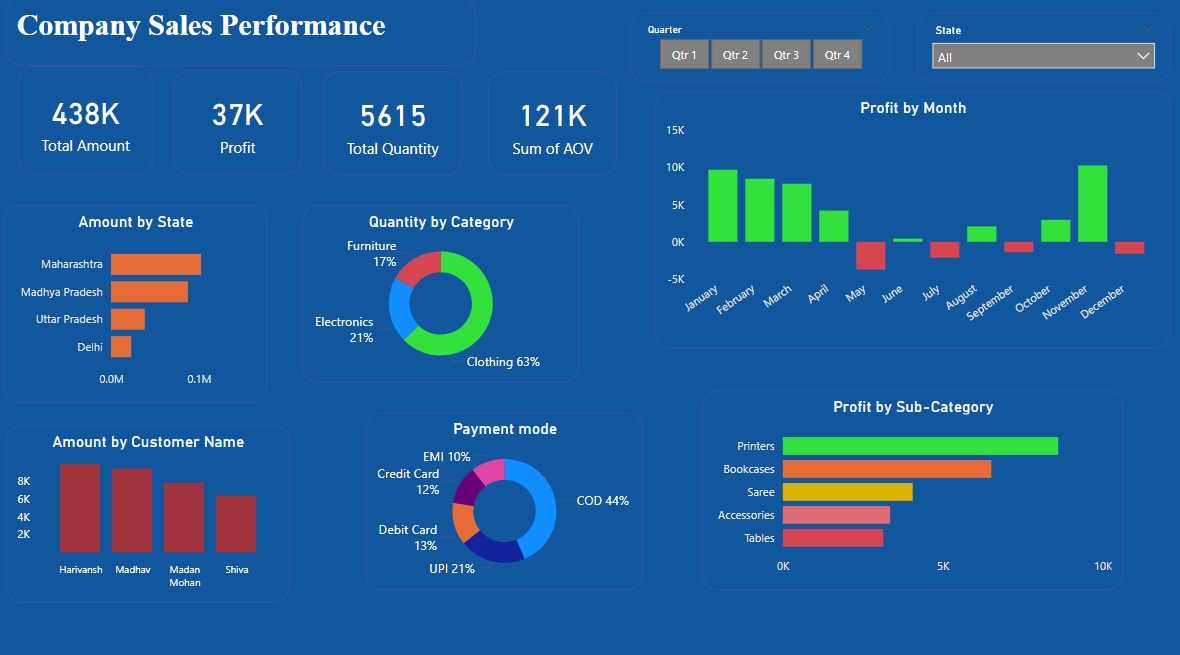

The page's visual inventory and layout, read from the dashboard file:
{"tool":"powerbi","page":{"name":"Page 1","canvas":[1280,720],"ordinal":0},"visuals":[{"type":"textbox","box":[9.4,0,606.5,56.5],"z":0},{"type":"columnChart","title":"Profit by Month","fields":{"Category":["Orders.Order Date.Variation.Date Hierarchy.Month"],"Y":["Details.Profit"]},"box":[707.4,103.6,555.4,277],"z":1000},{"type":"barChart","fields":{"Category":["Details.Sub-Category"],"Y":["Details.Profit"]},"box":[758.5,425,453.2,215.2],"z":2000},{"type":"donutChart","fields":{"Y":["Details.Quantity"],"Category":["Details.Category"]},"box":[328.1,225.9,298.6,191],"z":3000},{"type":"donutChart","fields":{"Y":["Details.Quantity"],"Category":["Details.PaymentMode"]},"box":[396.7,449.2,298.6,191],"z":4000},{"type":"card","fields":{"Values":["Details.Amount"]},"box":[22.9,76.7,145.2,117],"z":5000},{"type":"card","fields":{"Values":["Details.Profit"]},"box":[189.6,80.7,138.5,113],"z":6000},{"type":"card","fields":{"Values":["Details.Quantity"]},"box":[351,82,149.3,111.6],"z":7000},{"type":"card","fields":{"Values":["Details.AOV"]},"box":[528.5,82,138.5,111.6],"z":8000},{"type":"barChart","fields":{"Category":["Orders.State"],"Y":["Details.Amount"]},"box":[6.7,225.9,283.8,212.5],"z":9000},{"type":"columnChart","fields":{"Category":["Orders.CustomerName"],"Y":["Details.Amount"]},"box":[9.4,462.6,305.3,191],"z":10000},{"type":"slicer","fields":{"Values":["Orders.Order Date.Variation.Date Hierarchy.Quarter"]},"box":[681.8,18.8,281.1,75.3],"z":11000},{"type":"slicer","fields":{"Values":["Orders.State"]},"box":[989.8,18.8,273,75.3],"z":12000}]}

Visuals, with their boxes in screenshot pixels (x1, y1, x2, y2), scaled from the page's 1280x720 canvas onto the 1180x655 screenshot:
textbox: box=[9, 0, 568, 51]
"Profit by Month" columnChart: box=[652, 94, 1164, 346]
barChart - Details.Sub-Category x Details.Profit: box=[699, 387, 1117, 582]
donutChart - Details.Quantity x Details.Category: box=[302, 206, 578, 379]
donutChart - Details.Quantity x Details.PaymentMode: box=[366, 409, 641, 582]
card - Details.Amount: box=[21, 70, 155, 176]
card - Details.Profit: box=[175, 73, 302, 176]
card - Details.Quantity: box=[324, 75, 461, 176]
card - Details.AOV: box=[487, 75, 615, 176]
barChart - Orders.State x Details.Amount: box=[6, 206, 268, 399]
columnChart - Orders.CustomerName x Details.Amount: box=[9, 421, 290, 595]
slicer - Orders.Order Date.Variation.Date Hierarchy.Quarter: box=[629, 17, 888, 86]
slicer - Orders.State: box=[912, 17, 1164, 86]
